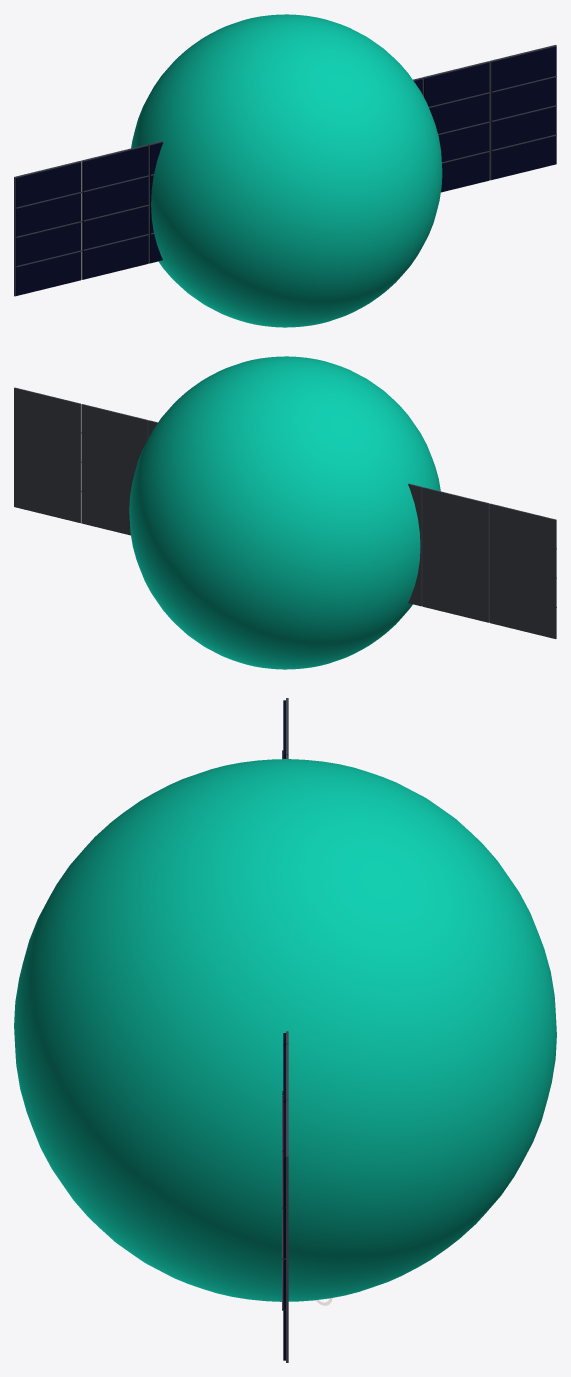
The model's file is satellite.obj.
3 renders of one model, top to bottom at view 1: azimuth 30°, elevation 25°; view 2: azimuth 150°, elevation 25°; view 3: azimuth 270°, elevation 25°, orthographic. The views are drawn at different scales.
Parts seen in each view (by area): view 1: scan-shell, panel-2, panel-1, panel-frame-2, panel-frame-1, panel-0; view 2: scan-shell, panel-frame-2, panel-frame-1, panel-frame-0; view 3: scan-shell, panel-frame-2, panel-2.
Boxes of the visible parts, x1,y1,x2,y2 form: scan-shell: (131,14,442,327); panel-2: (15,46,556,295); panel-1: (82,63,489,279); panel-frame-2: (14,45,556,296); panel-frame-1: (81,61,489,279); panel-0: (150,79,422,262); scan-shell: (129,356,440,669); panel-frame-2: (14,387,556,638); panel-frame-1: (81,404,489,622); panel-frame-0: (148,420,422,606); scan-shell: (14,759,556,1301); panel-frame-2: (286,698,288,1362); panel-2: (283,700,285,1360).
Size of the model in its own units: 12.58 by 6.45 by 6.3.
